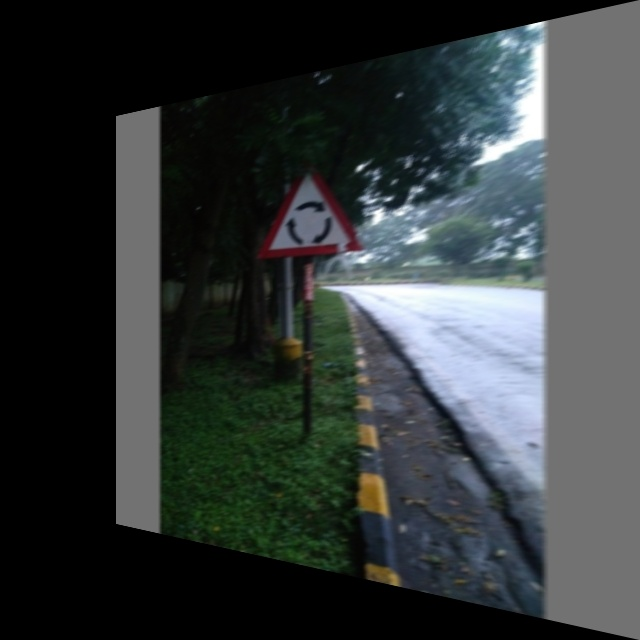Round_About: (253, 152, 365, 266)
